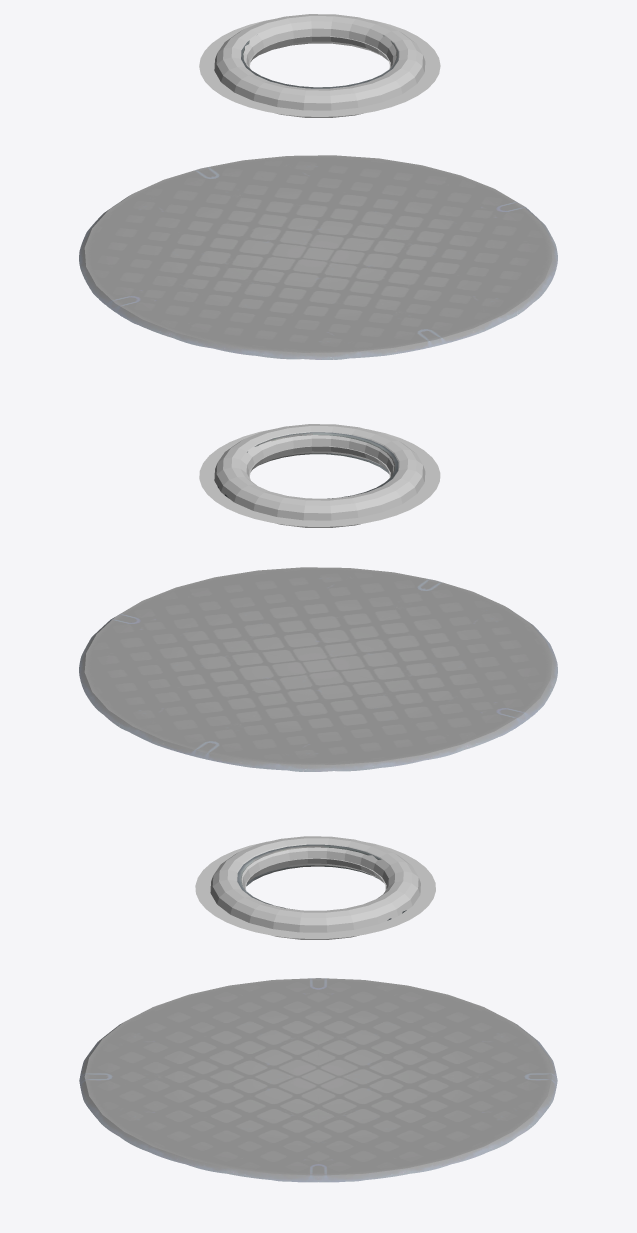
The model's file is pref_TPC_v2_NeutralScoreArea03_winter_orange_interfere_lv2.fbx.
The picture shows the model from 3 angles, top to bottom: view 1: azimuth 30°, elevation 25°; view 2: azimuth 150°, elevation 25°; view 3: azimuth 270°, elevation 25°; orthographic projection.
Parts seen in each view (by area): view 1: sm_prop_platform06a_lv2, sm_fx_0037_ring_04_xz (3), sm_fx_0037_ring_04_xz (2); view 2: sm_prop_platform06a_lv2, sm_fx_0037_ring_04_xz (3), sm_fx_0037_ring_04_xz (2), sm_prop_platform06b_lv2; view 3: sm_prop_platform06a_lv2, sm_fx_0037_ring_04_xz (3), sm_fx_0037_ring_04_xz (2), sm_prop_platform06b_lv2.
Boxes of the visible parts, x1=… form: sm_prop_platform06a_lv2: x1=79, y1=155, x2=557, y2=359; sm_fx_0037_ring_04_xz (3): x1=214, y1=14, x2=425, y2=117; sm_fx_0037_ring_04_xz (2): x1=199, y1=19, x2=440, y2=116; sm_prop_platform06a_lv2: x1=79, y1=567, x2=557, y2=771; sm_fx_0037_ring_04_xz (3): x1=214, y1=424, x2=425, y2=527; sm_fx_0037_ring_04_xz (2): x1=199, y1=429, x2=440, y2=526; sm_prop_platform06b_lv2: x1=217, y1=432, x2=398, y2=498; sm_prop_platform06a_lv2: x1=79, y1=978, x2=557, y2=1182; sm_fx_0037_ring_04_xz (3): x1=210, y1=836, x2=420, y2=939; sm_fx_0037_ring_04_xz (2): x1=195, y1=841, x2=435, y2=938; sm_prop_platform06b_lv2: x1=237, y1=844, x2=406, y2=920.
Size of the model in its own units: 7.46 by 2.9 by 7.46.
